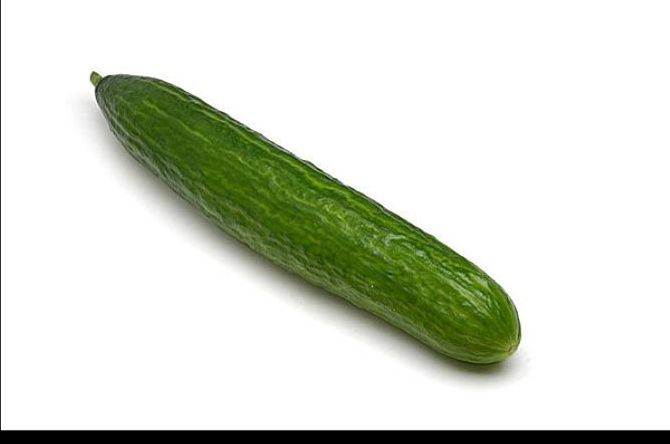cucumber: (86, 67, 518, 361)
